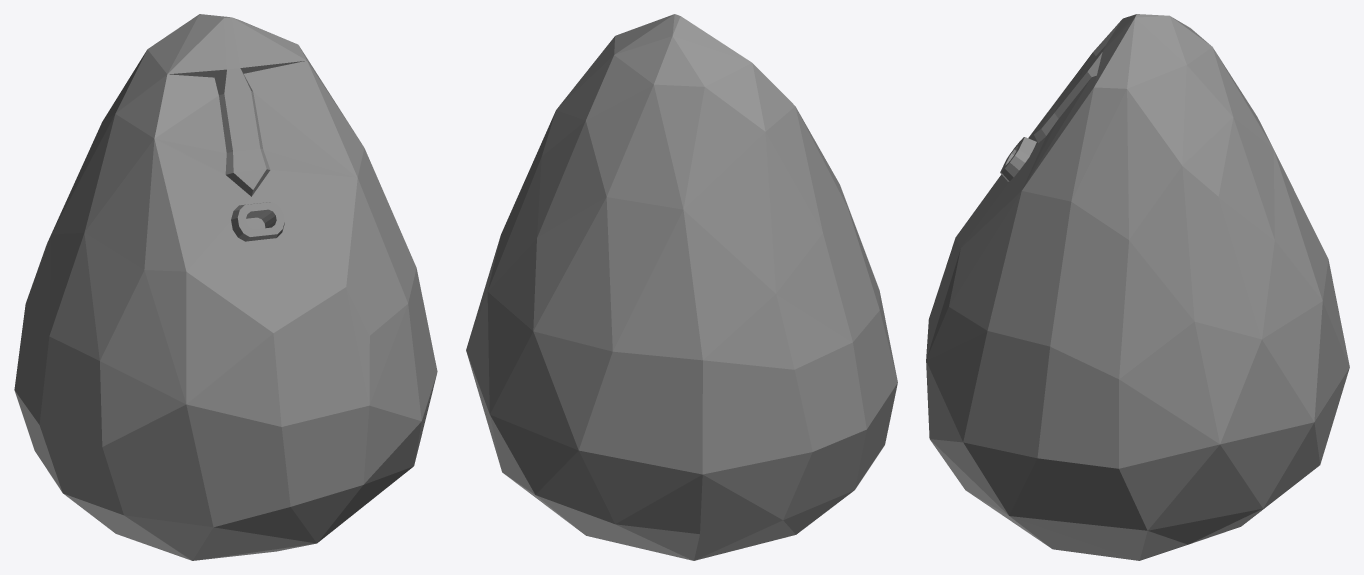
File: Statue_3.fbx
3 renders of one model, left to right at view 1: azimuth 30°, elevation 25°; view 2: azimuth 150°, elevation 25°; view 3: azimuth 270°, elevation 25°, orthographic.
Parts seen in each view (by area): view 1: Statue_3; view 2: Statue_3; view 3: Statue_3.
Boxes of the visible parts, <box> form: Statue_3: <box>14,14,437,560</box>; Statue_3: <box>466,14,897,560</box>; Statue_3: <box>926,14,1349,560</box>.
Size of the model in its own units: 176 by 235 by 174.
